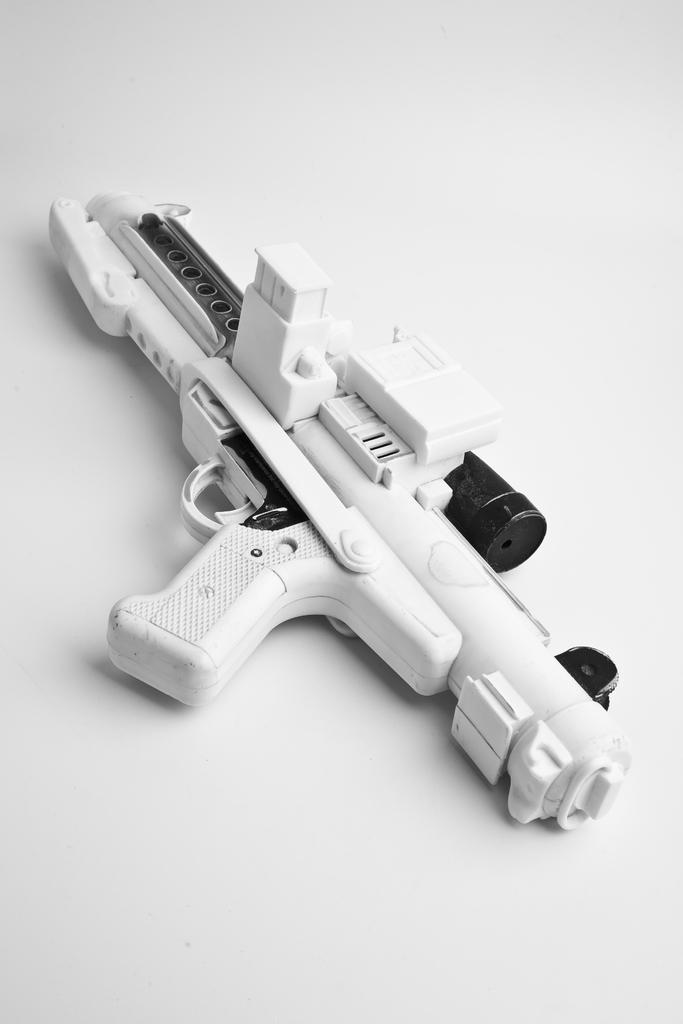Handgun: (49, 189, 639, 835)
